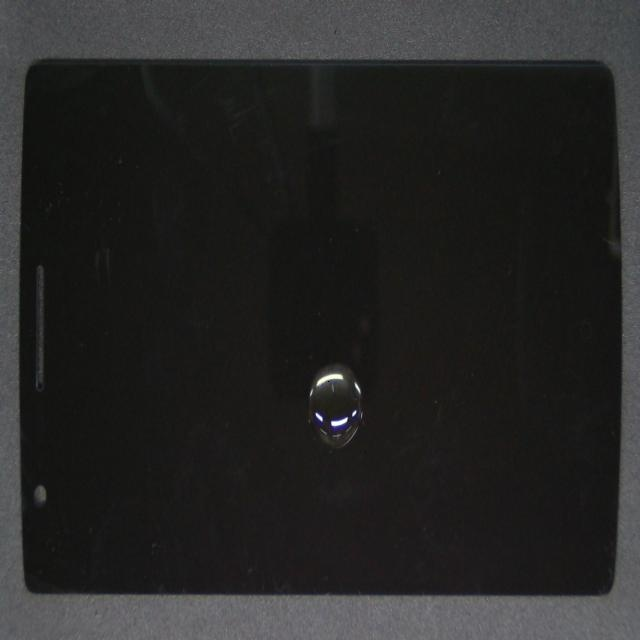oil: (188, 177, 494, 559)
